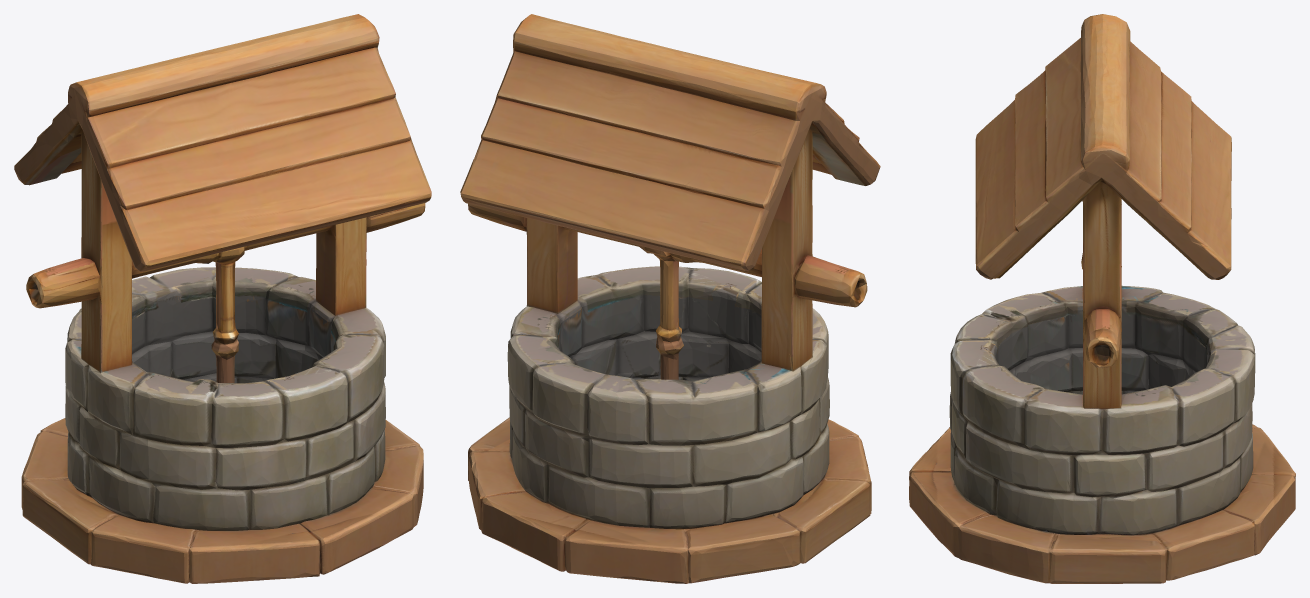
File: Wishing_Well_Icon_0506194447_texture.fbx
The picture shows the model from 3 angles, left to right: view 1: azimuth 30°, elevation 25°; view 2: azimuth 150°, elevation 25°; view 3: azimuth 270°, elevation 25°; orthographic projection. The views are drawn at different scales.
Visible parts, largest first — view 1: temp; view 2: temp; view 3: temp.
Boxes of the visible parts, x1,y1,x2,y2 form: temp: [14, 14, 431, 583]; temp: [460, 14, 880, 583]; temp: [909, 14, 1295, 583].
Size of the model in its own units: 180 by 200 by 164.
Materials: 1 (1 with a texture image).
